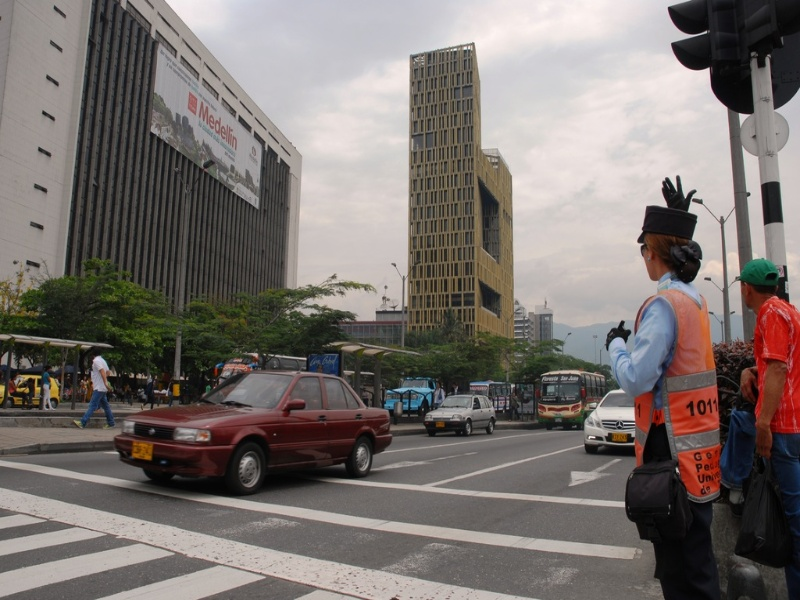zebra_cross: (1, 482, 557, 596)
